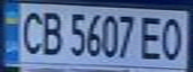0: (100, 11, 121, 60)
5: (63, 9, 87, 57)
6: (84, 10, 103, 58)
7: (118, 11, 139, 60)
B: (36, 8, 66, 56)
C: (15, 7, 45, 56)
E: (136, 12, 166, 61)
O: (157, 15, 190, 62)
